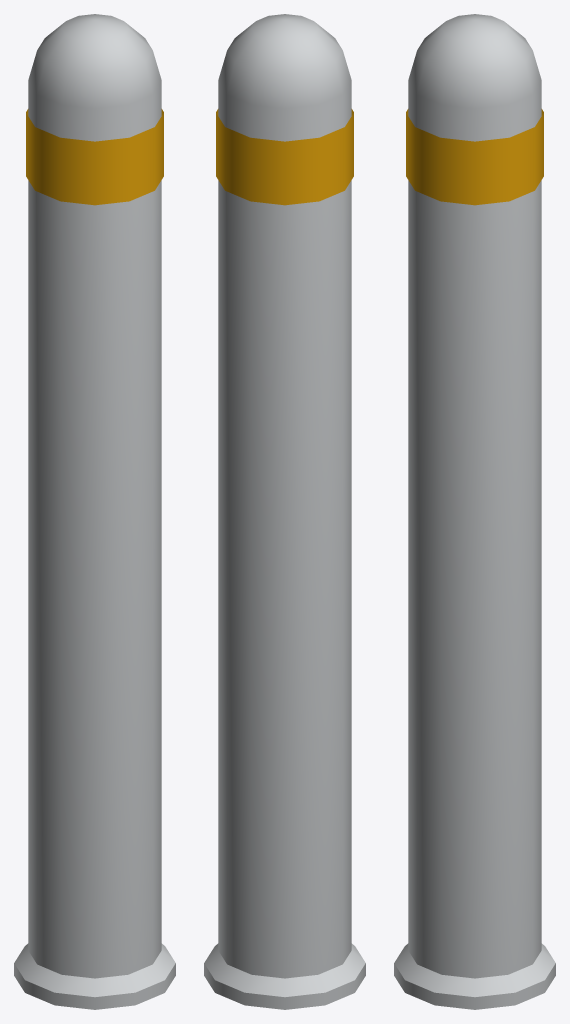
File: gteki_street_bollard_fixed_d114_h900.glb
3 renders of one model, left to right at view 1: azimuth 30°, elevation 25°; view 2: azimuth 150°, elevation 25°; view 3: azimuth 270°, elevation 25°, orthographic.
Visible parts, largest first — view 1: VIS_body; view 2: VIS_body; view 3: VIS_body.
Boxes of the visible parts, left/top/right/bottom form: VIS_body: left=14, top=14, right=175, bottom=1009; VIS_body: left=204, top=14, right=365, bottom=1009; VIS_body: left=394, top=14, right=555, bottom=1009.
Size of what is drawn, in the model's own units: 0.138 by 0.9 by 0.138.
Materials: 1 (1 with a texture image).
